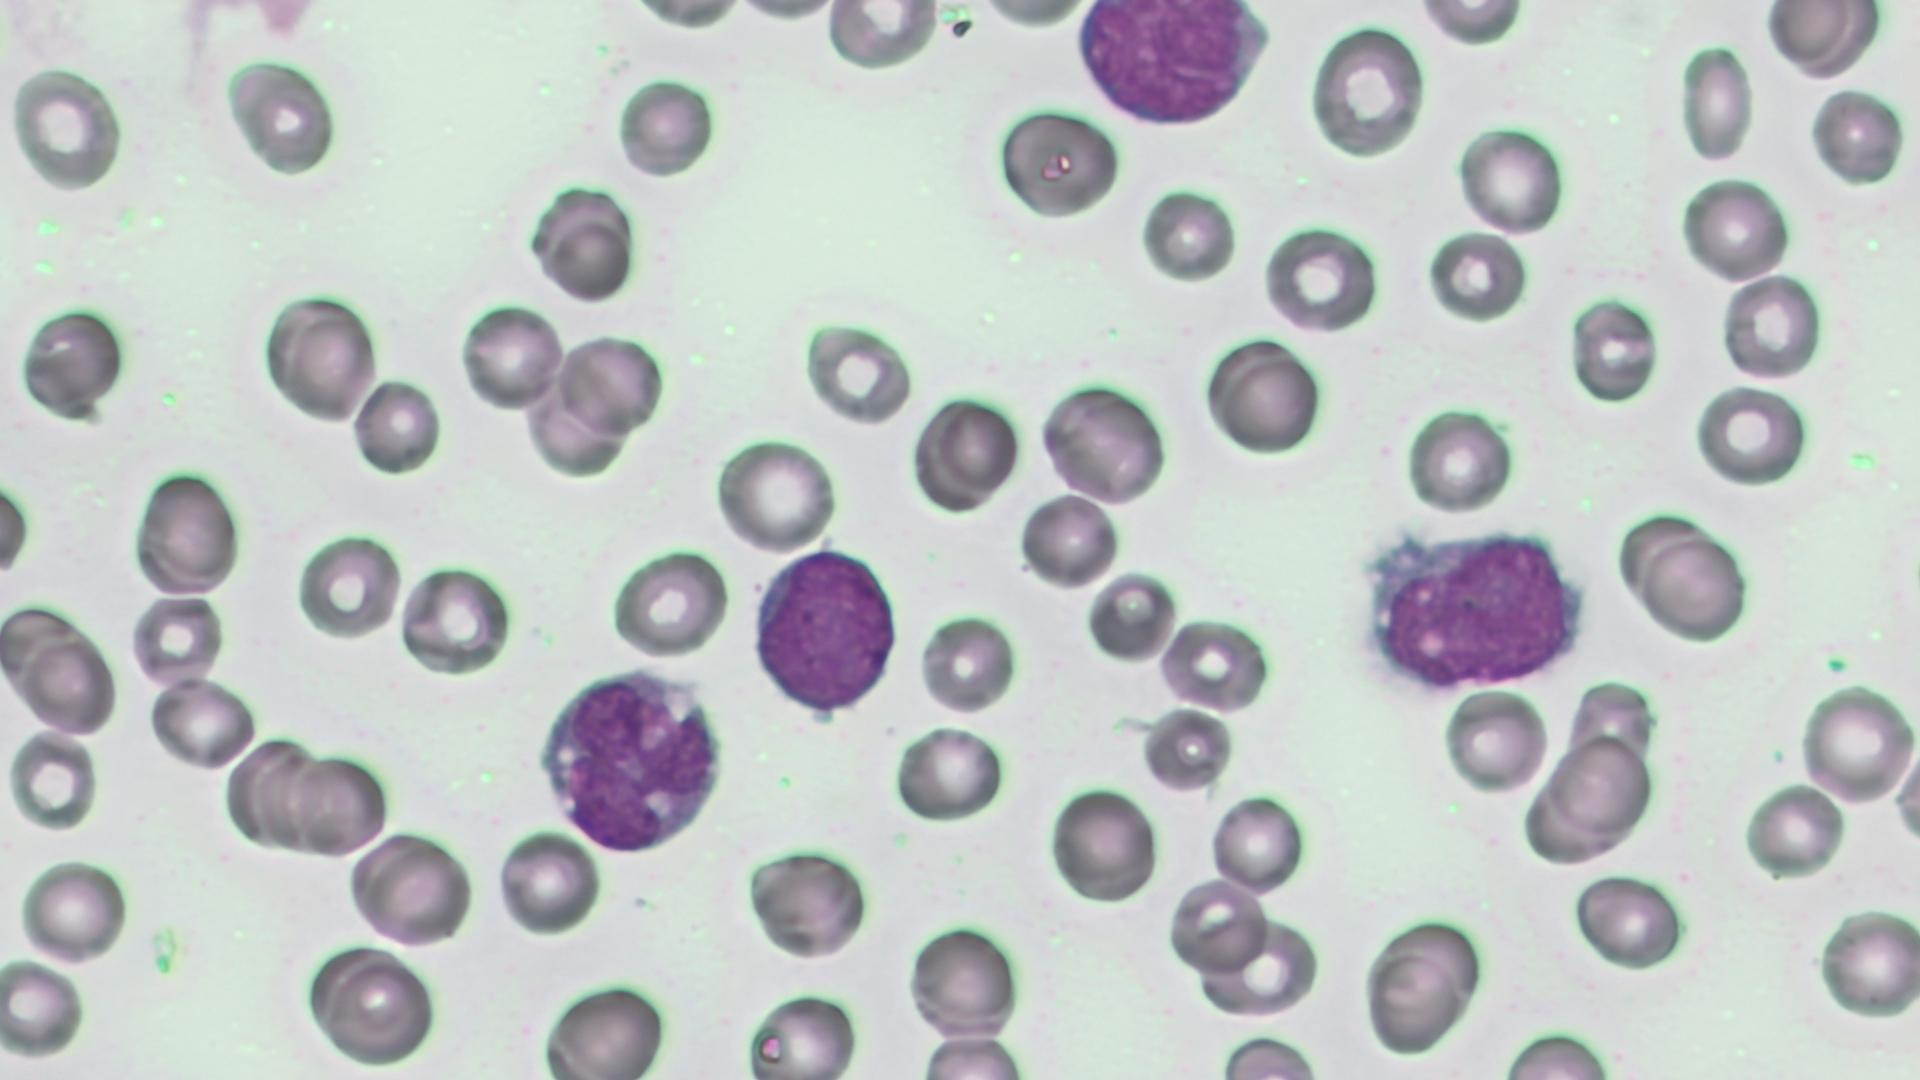RBC: (1358, 910, 1484, 1060), (5, 58, 128, 200), (1036, 376, 1168, 506), (1309, 21, 1425, 164), (348, 825, 475, 951), (261, 290, 376, 427), (711, 433, 839, 554), (993, 102, 1122, 222), (741, 843, 870, 960), (527, 177, 644, 305), (222, 51, 338, 179), (132, 465, 241, 597), (1259, 220, 1382, 338), (1797, 682, 1913, 806), (1203, 338, 1323, 456), (905, 919, 1022, 1040), (316, 948, 438, 1065), (1192, 914, 1321, 1022), (609, 545, 729, 661), (1047, 783, 1158, 906), (398, 560, 513, 678), (15, 302, 128, 421), (1402, 400, 1516, 516), (1455, 120, 1567, 237), (491, 824, 603, 940), (1677, 171, 1793, 284), (1691, 381, 1811, 489), (1437, 683, 1551, 796), (16, 853, 129, 967), (1638, 531, 1753, 642), (543, 978, 670, 1079), (556, 328, 669, 440), (1815, 903, 1920, 1022), (1716, 269, 1824, 384), (1154, 613, 1276, 713), (456, 298, 560, 413), (891, 721, 1005, 825), (1571, 872, 1684, 973), (142, 675, 258, 773), (1738, 778, 1846, 882), (1548, 732, 1656, 836), (1015, 489, 1122, 593), (1162, 872, 1270, 975), (740, 986, 862, 1076), (1207, 789, 1309, 895), (916, 609, 1021, 713), (1567, 290, 1659, 406), (1804, 83, 1905, 189), (289, 749, 386, 858), (128, 588, 229, 688), (1138, 185, 1240, 285), (930, 392, 1021, 502), (1677, 40, 1755, 166), (349, 375, 444, 477), (18, 636, 117, 733), (249, 744, 328, 856), (1760, 0, 1875, 76), (824, 0, 942, 73), (1411, 0, 1531, 46), (914, 1030, 1029, 1077), (1888, 735, 1917, 858), (0, 477, 33, 585)
WBC: (1353, 520, 1593, 696), (531, 659, 736, 858), (750, 541, 906, 720), (1069, 1, 1276, 132)
